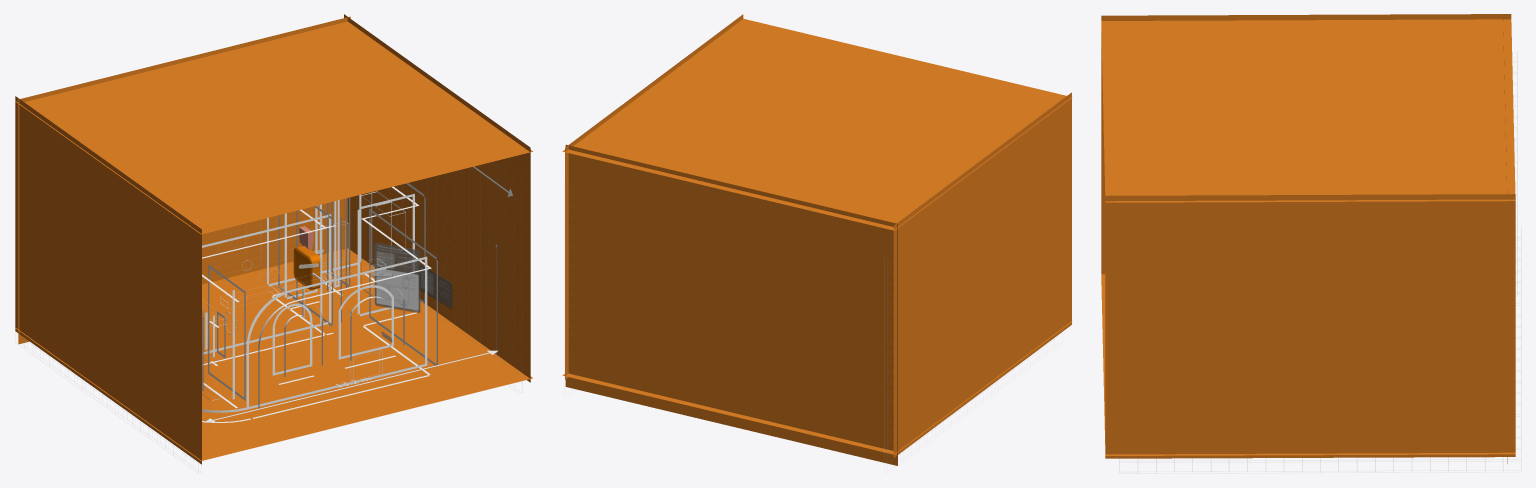
File: left1_v9.glb
3 views of the same model, side by side, from view 1: azimuth 30°, elevation 25°; view 2: azimuth 150°, elevation 25°; view 3: azimuth 270°, elevation 25° (orthographic). The views are drawn at different scales.
Parts seen in each view (by area): view 1: Plane.027, Plane.026, Plane.028, Plane.025, posta_v1.005, Plane.024, description2, Cube.005, prices, arrow_1320cm.001; view 2: Plane.024, Plane.027, Plane.026, Plane.025, Plane.028; view 3: Plane.025, Plane.027, Plane.026, Plane.028.
Part boxes in pixels (x1,y1,x2,y2): Plane.027: [15, 21, 532, 234]; Plane.026: [15, 96, 201, 464]; Plane.028: [15, 248, 532, 460]; Plane.025: [344, 14, 530, 382]; posta_v1.005: [202, 183, 437, 422]; Plane.024: [18, 16, 350, 344]; description2: [374, 243, 420, 312]; Cube.005: [293, 246, 320, 289]; prices: [419, 264, 452, 308]; arrow_1320cm.001: [204, 350, 498, 422]; Plane.024: [565, 145, 897, 465]; Plane.027: [562, 18, 1072, 230]; Plane.026: [893, 92, 1071, 457]; Plane.025: [565, 14, 743, 379]; Plane.028: [562, 321, 1072, 454]; Plane.025: [1105, 194, 1515, 458]; Plane.027: [1101, 19, 1515, 202]; Plane.026: [1101, 14, 1511, 274]; Plane.028: [1101, 274, 1515, 455].
Bounding box in the file's own units: 32.52 × 23 × 31.41.
24 materials, 20 textured.
